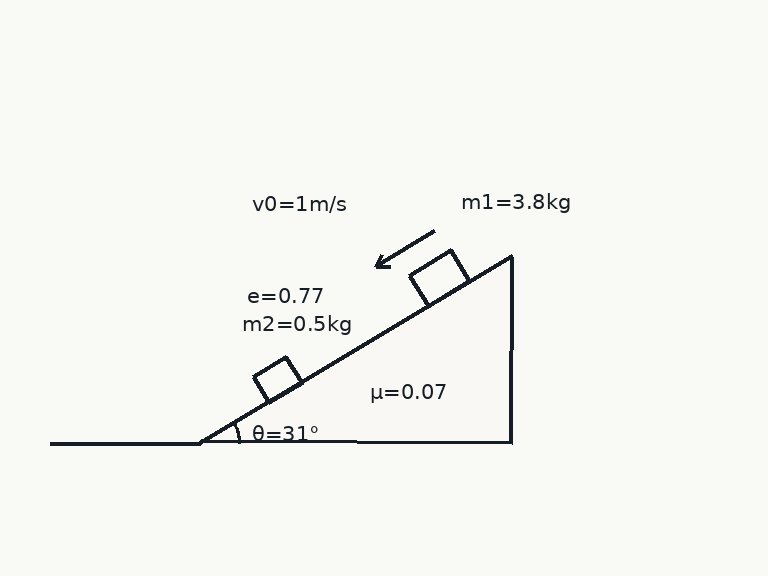block: (407, 248, 471, 308), (251, 355, 303, 404)
ramp: (197, 254, 513, 445)
